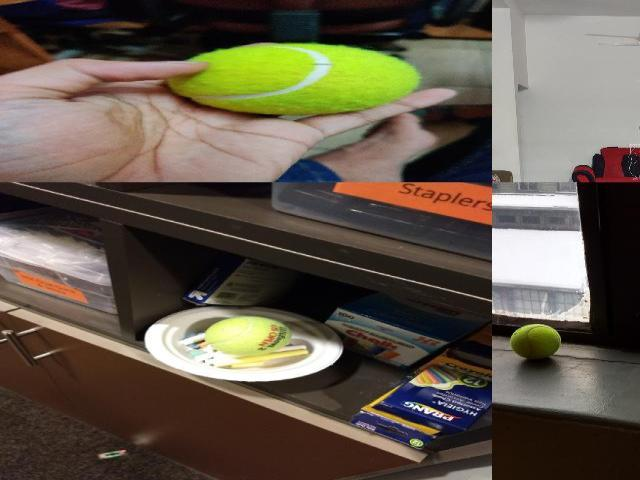tennis-ball: (168, 44, 419, 114), (204, 316, 292, 356), (509, 323, 561, 360)
